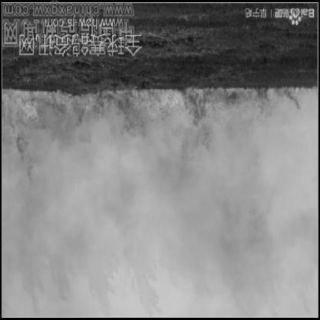Fire: (3, 88, 311, 136)
